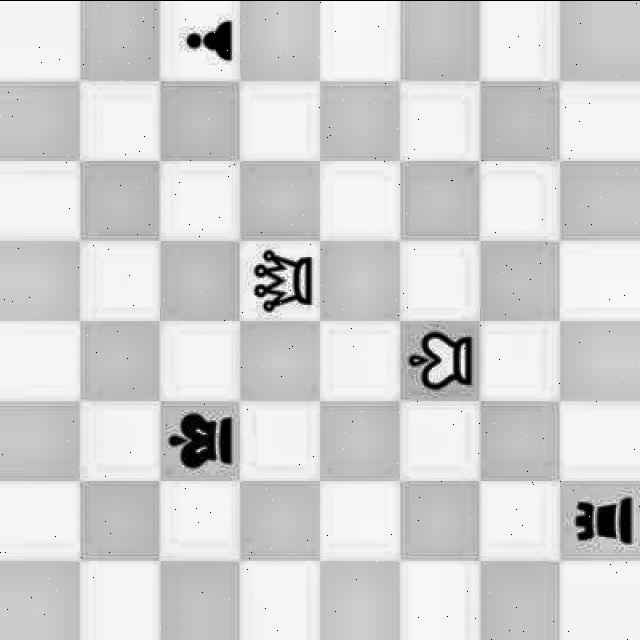black king: (160, 400, 240, 478)
black pawn: (162, 2, 242, 78)
black rook: (558, 480, 638, 559)
white king: (402, 320, 482, 396)
white queen: (242, 243, 320, 315)
